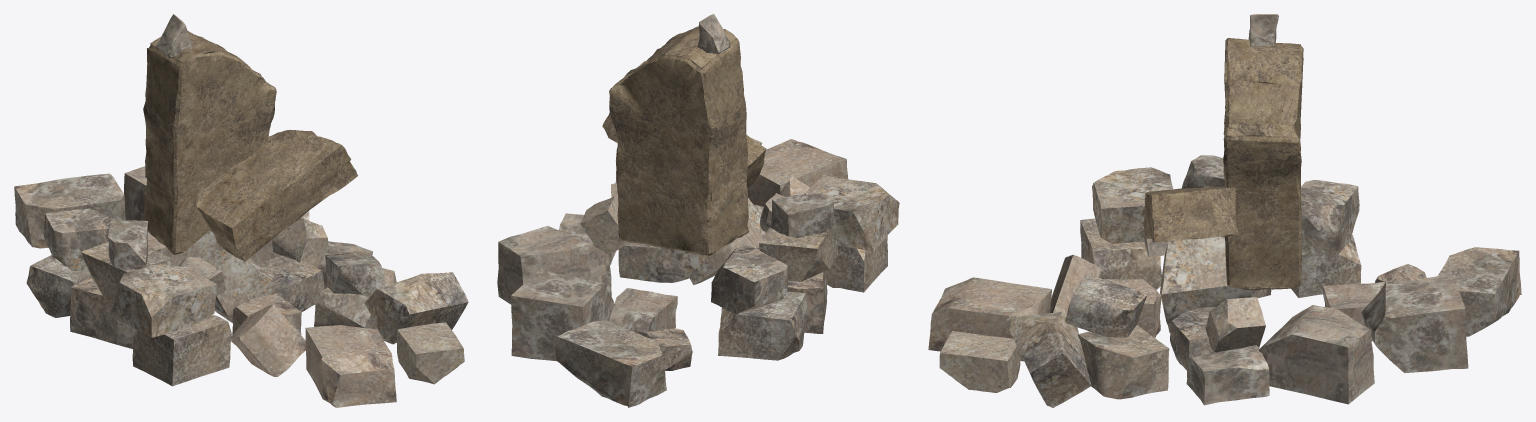
Rendered from cima-astorg.glb.
3 renders of one model, left to right at view 1: azimuth 30°, elevation 25°; view 2: azimuth 150°, elevation 25°; view 3: azimuth 270°, elevation 25°, orthographic. The views are drawn at different scales.
Visible parts, largest first — view 1: torre_bloque, torre_laja, bloque3, bloque9, bloque0, bloque7, bloque5, bloque19, torre_base4, bloque6, torre_base3, torre_base0 (+13 smaller); view 2: torre_bloque, bloque5, bloque8, torre_base6, bloque2, bloque9, torre_base3, bloque3, torre_base2, bloque14, bloque21, bloque0 (+9 smaller); view 3: torre_bloque, torre_base6, bloque8, bloque3, bloque7, bloque15, torre_base4, torre_laja, bloque5, bloque9, bloque6, torre_base5 (+12 smaller).
Part boxes in pixels (x1,y1,x2,y2): torre_bloque: (143,30,276,254); torre_laja: (197,129,357,261); bloque3: (305,325,396,407); bloque9: (110,264,216,337); bloque0: (132,314,231,386); bloque7: (364,272,468,344); bloque5: (14,173,125,248); bloque19: (229,304,305,376); torre_base4: (171,231,273,322); bloque6: (397,322,464,384); torre_base3: (44,208,115,271); torre_base0: (70,278,136,348); torre_bloque: (609,26,748,255); bloque5: (555,320,666,407); bloque8: (511,268,614,361); torre_base6: (497,225,611,304); bloque2: (718,291,807,360); bloque9: (804,175,899,251); torre_base3: (711,244,787,313); bloque3: (747,139,848,206); torre_base2: (759,221,838,281); bloque14: (609,288,677,336); bloque21: (770,193,834,237); bloque0: (826,235,887,292); torre_bloque: (1223,38,1303,290); torre_base6: (1259,305,1374,404); bloque8: (1361,274,1468,373); bloque3: (928,277,1051,361); bloque7: (1005,311,1091,407); bloque15: (1078,325,1169,399); torre_base4: (1160,236,1251,332); torre_laja: (1143,186,1238,242); bloque5: (1438,247,1521,336); bloque9: (1092,167,1173,243); bloque6: (939,331,1020,392); torre_base5: (1186,345,1269,405).
Size of the model in its own units: 3 by 2.73 by 4.79.
Materials: 2 (2 with a texture image).
